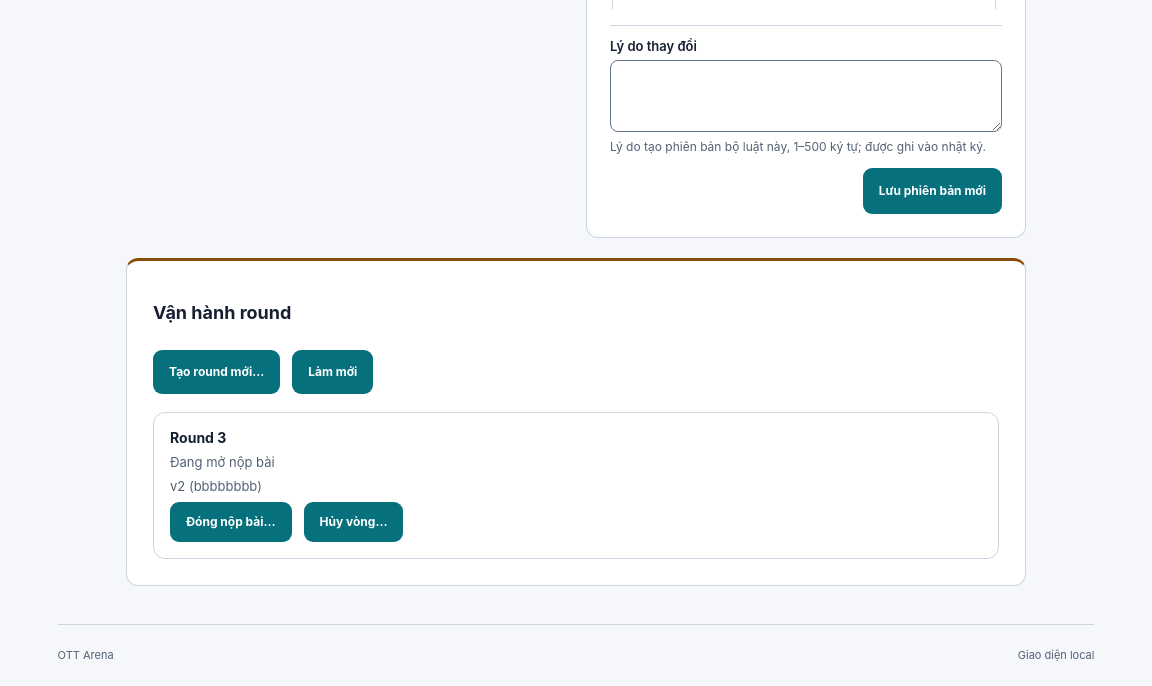
Test: RoundAdmin cancel round (loop 101) › requires a reason of at least 3 characters, shows the warning and posts the cancel
(page scrolled)
Check: the heading "Round 3" is shown, box left=170, top=428, right=226, bottom=446
Click the button "Hủy vòng…" at [353, 522], box left=304, top=502, right=403, bottom=542
(page scrolled)
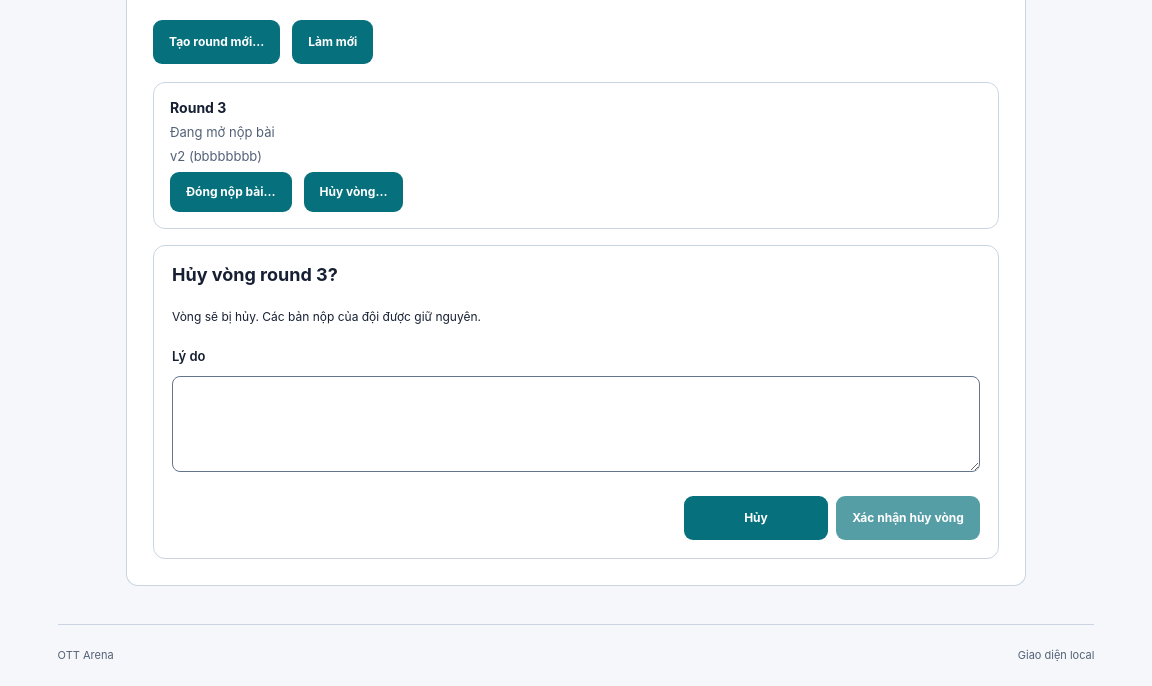
Check: the text "Vòng sẽ bị hủy. Các bản nộp của đội được giữ nguyên." is shown, box left=172, top=308, right=481, bottom=324
Check: the button "Xác nhận hủy vòng" is disabled, box left=836, top=496, right=980, bottom=540
Type "ab" into the text box labelled "Lý do" at [576, 424], box left=172, top=376, right=980, bottom=472
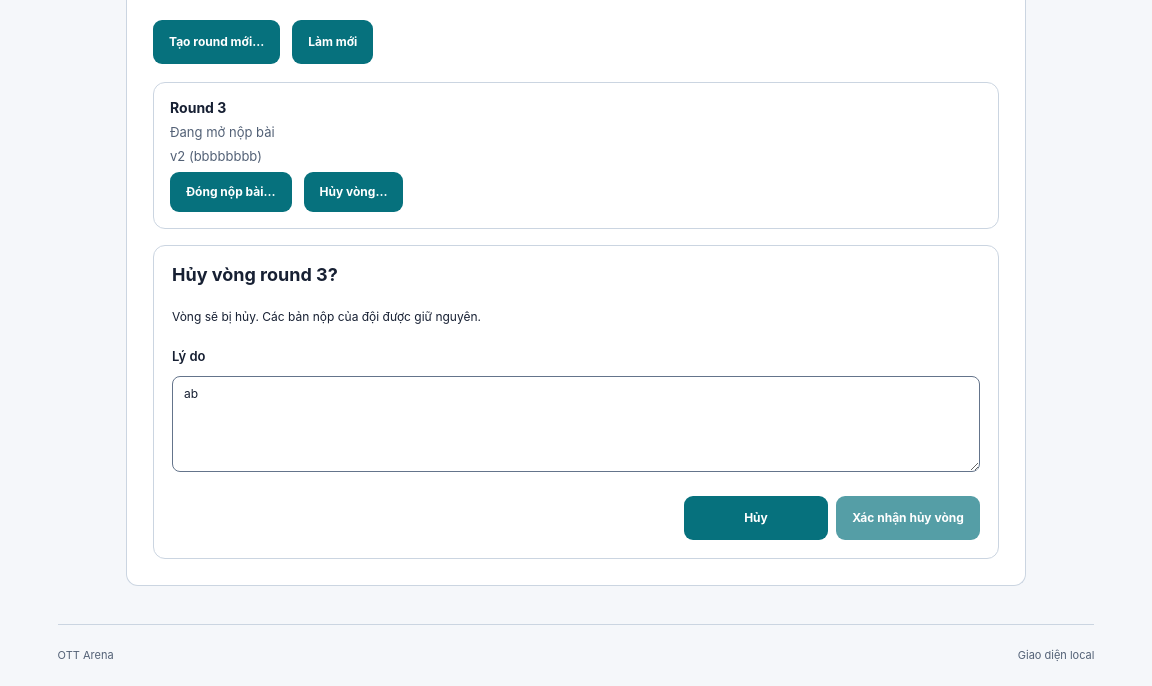
Check: the button "Xác nhận hủy vòng" is disabled, box left=836, top=496, right=980, bottom=540
Replace the text in the text box labelled "Lý do" with "mở nhầm vòng" at [576, 424], box left=172, top=376, right=980, bottom=472
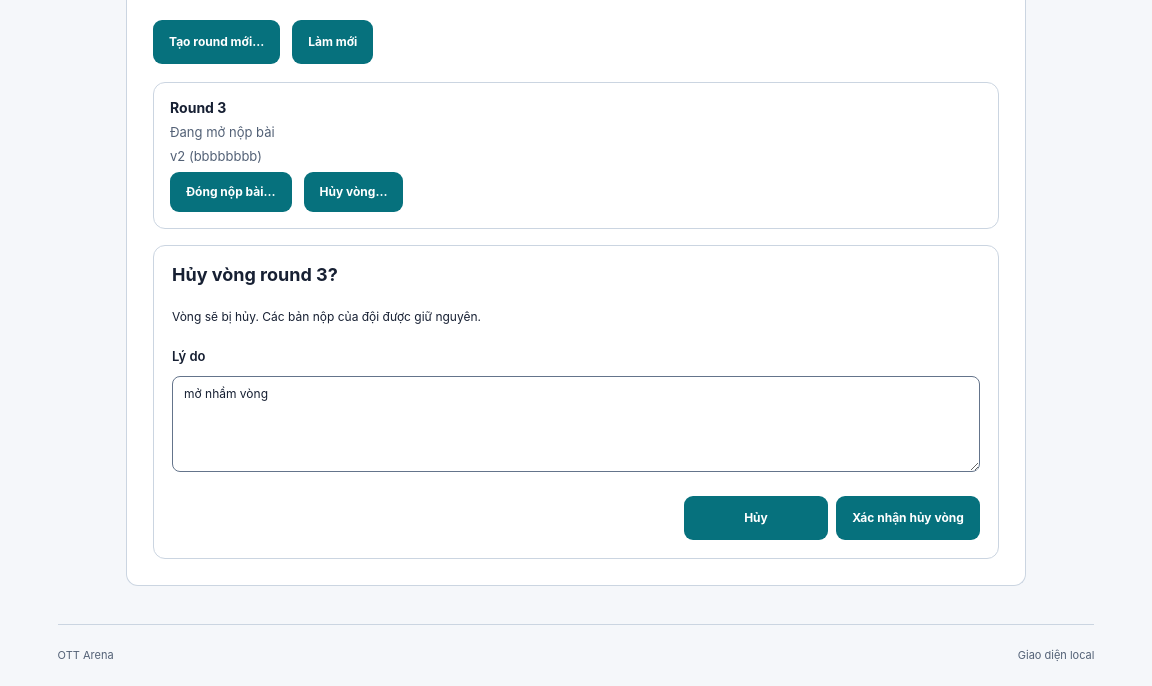
Check: the button "Xác nhận hủy vòng" is enabled
Click the button "Xác nhận hủy vòng" at [908, 518], box left=836, top=496, right=980, bottom=540
(page scrolled)
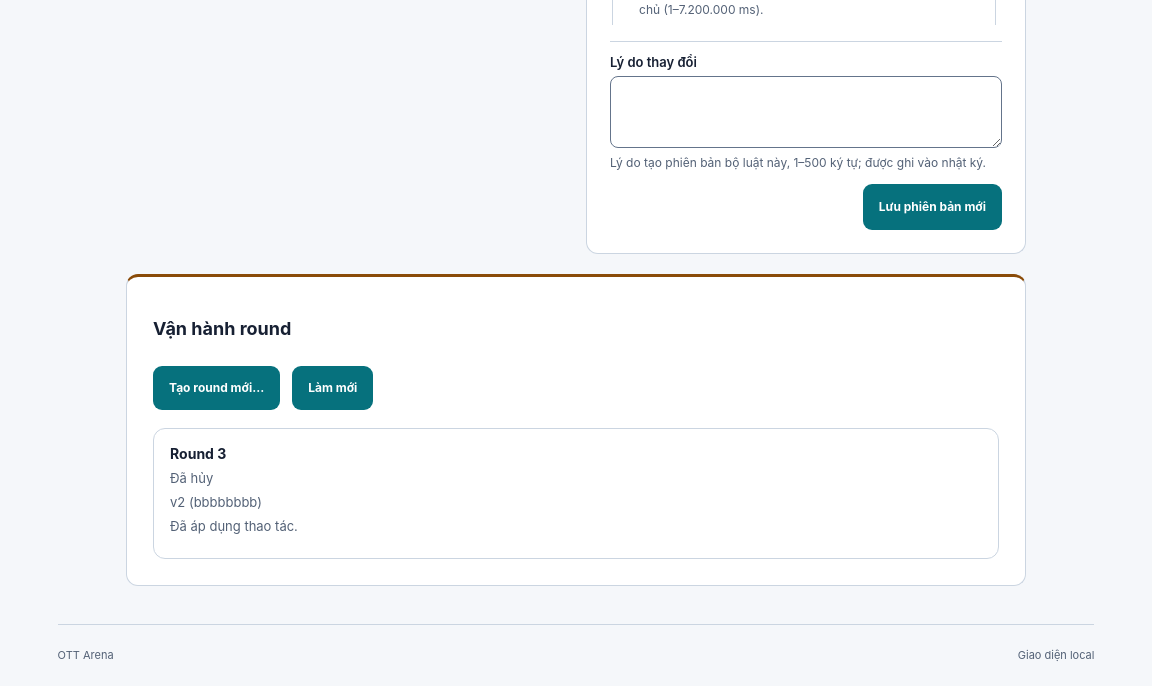
Check: the text "Đã hủy" is shown, box left=170, top=470, right=213, bottom=486
Check: the message reads "Đã áp dụng thao tác.", box left=170, top=518, right=298, bottom=534
Check: the button "Xác nhận hủy vòng" is gone
